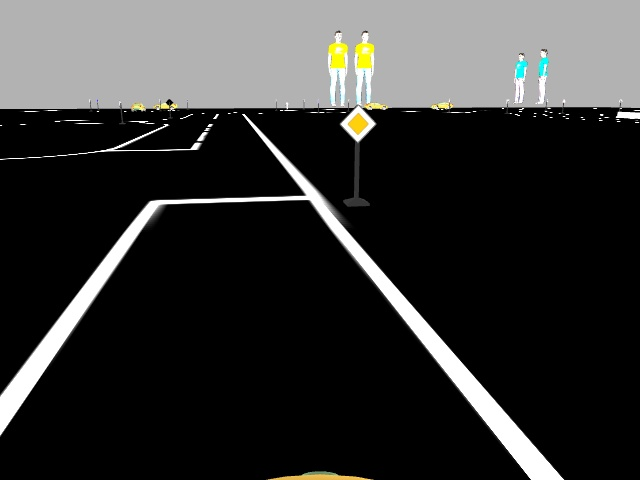Priority: (342, 105, 374, 139)
